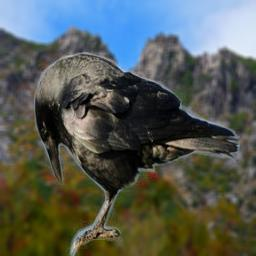Crow: (34, 52, 240, 256)
